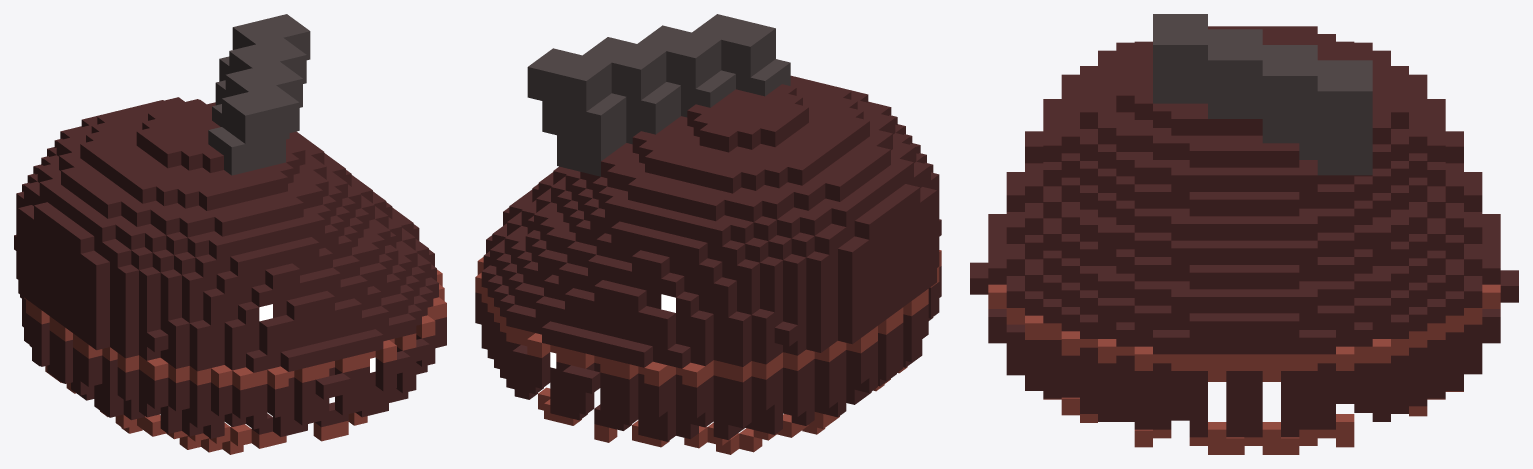
The model's file is mystic_masterwork_shoulder_L.glb.
3 renders of one model, left to right at view 1: azimuth 30°, elevation 25°; view 2: azimuth 150°, elevation 25°; view 3: azimuth 270°, elevation 25°, orthographic. The views are drawn at different scales.
Visible parts, largest first — view 1: mystic_masterwork_shoulder_L; view 2: mystic_masterwork_shoulder_L; view 3: mystic_masterwork_shoulder_L.
Part boxes in pixels (x1=…): mystic_masterwork_shoulder_L: x1=14, y1=14, x2=446, y2=454; mystic_masterwork_shoulder_L: x1=475, y1=14, x2=941, y2=454; mystic_masterwork_shoulder_L: x1=970, y1=14, x2=1518, y2=454.
Size of the model in its own units: 0.3 by 0.252 by 0.36.
